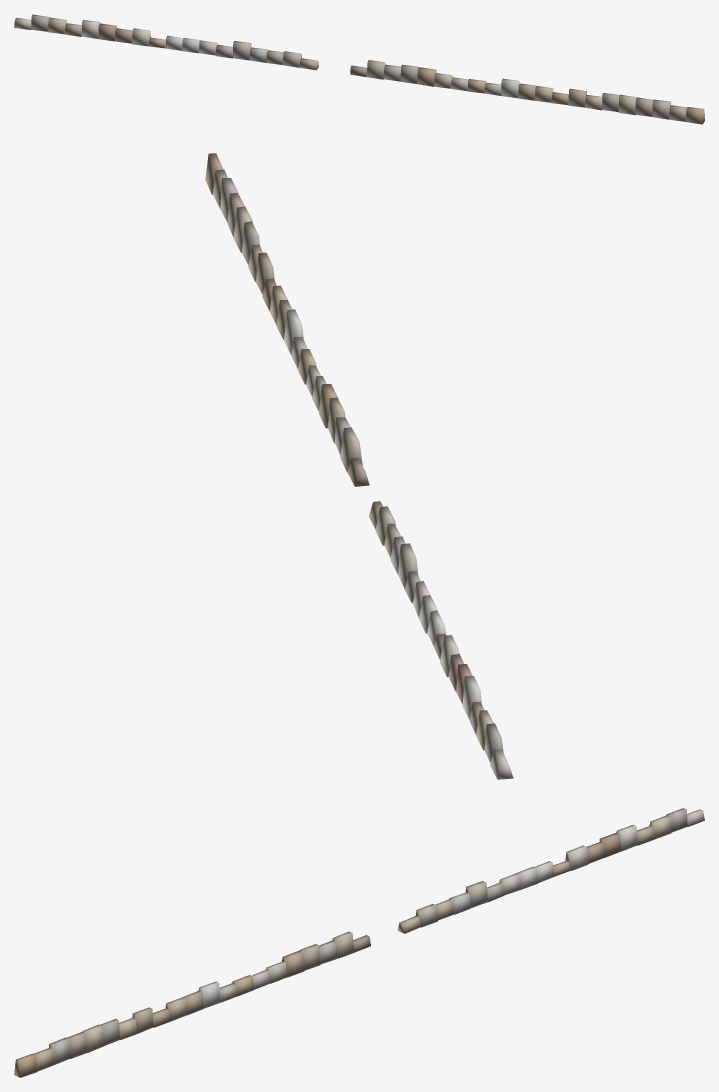
Rendered from farm_3_6_far.glb.
3 views of the same model, one above another, from view 1: azimuth 30°, elevation 25°; view 2: azimuth 150°, elevation 25°; view 3: azimuth 270°, elevation 25° (orthographic). The views are drawn at different scales.
Visible parts, largest first — view 1: geometry_0; view 2: geometry_0; view 3: geometry_0.
Boxes of the visible parts, x1,y1,x2,y2 form: geometry_0: (14, 14, 704, 124); geometry_0: (205, 153, 513, 779); geometry_0: (14, 808, 704, 1077).
Size of the model in its own units: 43.24 by 1.55 by 48.49.
